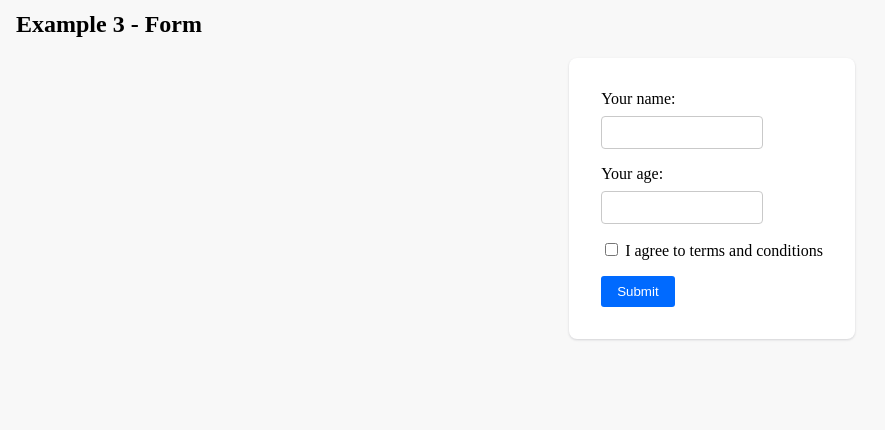
it: Form Component › shows validation errors when submitting empty form
Click the button "Submit" at (638, 291), box 601,276 -> 675,307
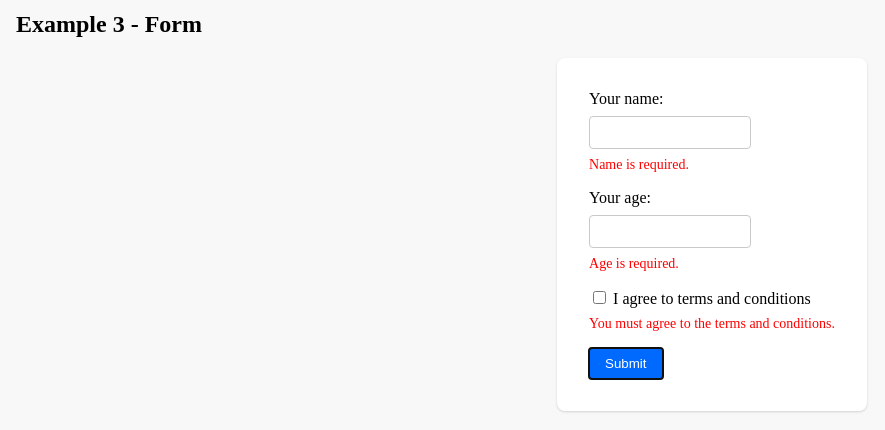
Result: the text "Name is required." is shown at 589,157 -> 689,172
Result: the text "Age is required." is shown at 589,256 -> 679,271
Result: the text "You must agree to the terms and conditions." is shown at 589,316 -> 835,332
